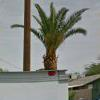Palm tree: (34, 3, 78, 82)
